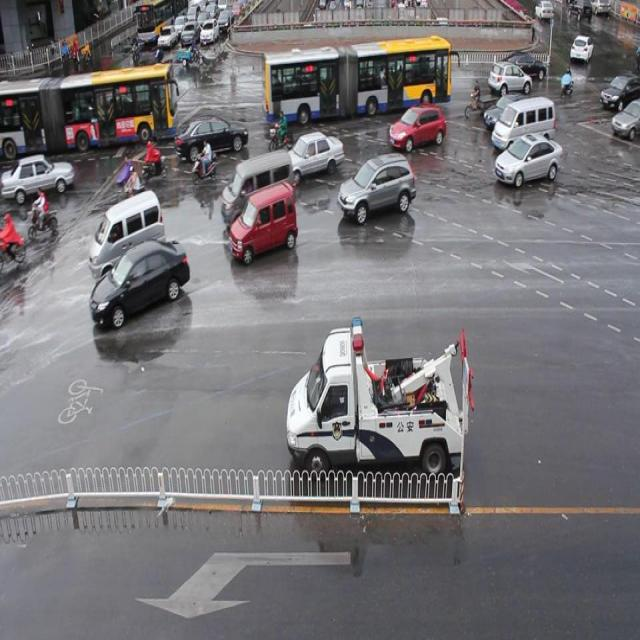bus: (286, 317, 473, 481)
car: (89, 240, 191, 322), (338, 152, 416, 221), (229, 183, 298, 260), (493, 132, 562, 186), (0, 154, 74, 203), (175, 113, 249, 157), (283, 132, 344, 180), (388, 102, 446, 148), (109, 79, 162, 120), (481, 93, 535, 129), (389, 52, 436, 87), (488, 60, 531, 96), (500, 51, 544, 82)
truck: (89, 190, 167, 279), (222, 150, 296, 225), (491, 99, 555, 148)
van: (264, 37, 452, 119), (1, 67, 179, 153)
